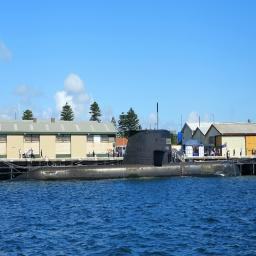submarine: (1, 99, 243, 178)
